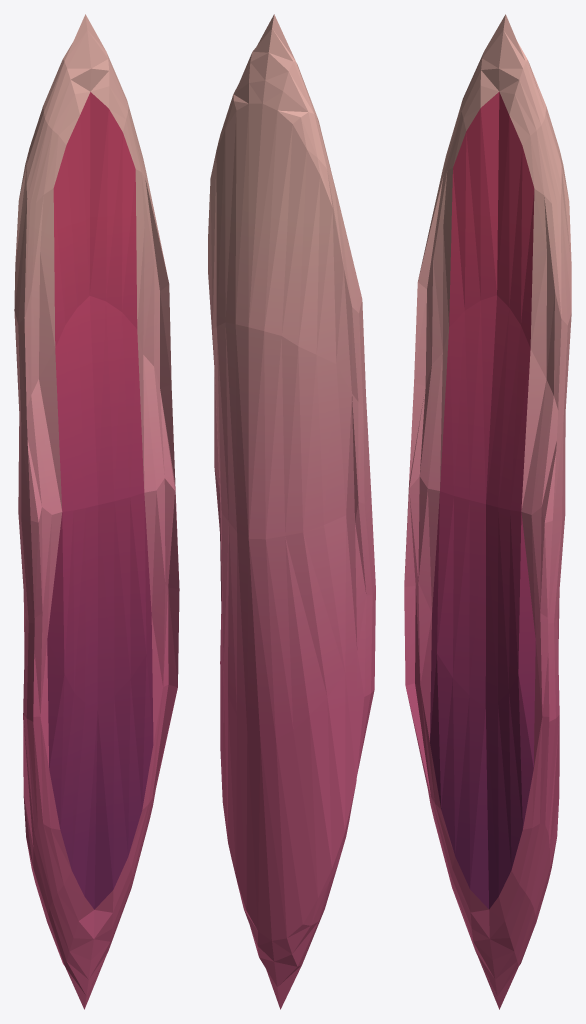
File: BossObstacle.obj
3 renders of one model, left to right at view 1: azimuth 30°, elevation 25°; view 2: azimuth 150°, elevation 25°; view 3: azimuth 330°, elevation 25°, orthographic.
Parts seen in each view (by area): view 1: 円; view 2: 円; view 3: 円.
Boxes of the visible parts, bbox=[...] form: 円: bbox=[14, 14, 179, 1009]; 円: bbox=[208, 14, 375, 1009]; 円: bbox=[404, 14, 571, 1009].
Bounding box in the file's own units: 2.02 × 12.91 × 1.28.
1 material, 1 textured.
